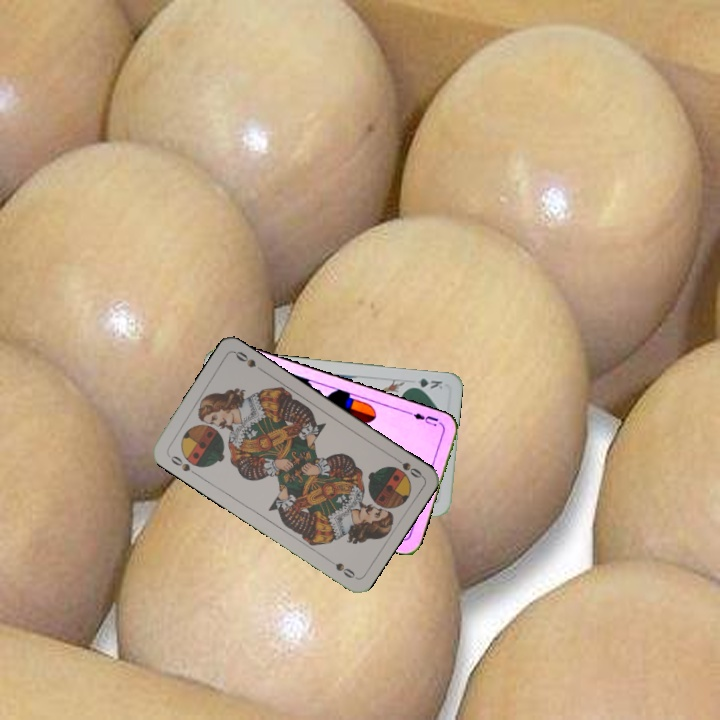EU: (405, 408, 441, 429)
GK: (406, 374, 445, 392)
SO: (389, 452, 425, 481), (164, 450, 200, 478)
